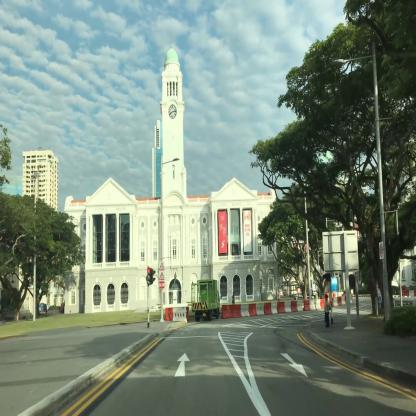red_traffic_light: (148, 268, 150, 284)
